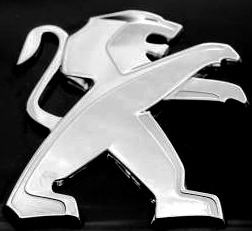Peugeot: (5, 8, 248, 227)
